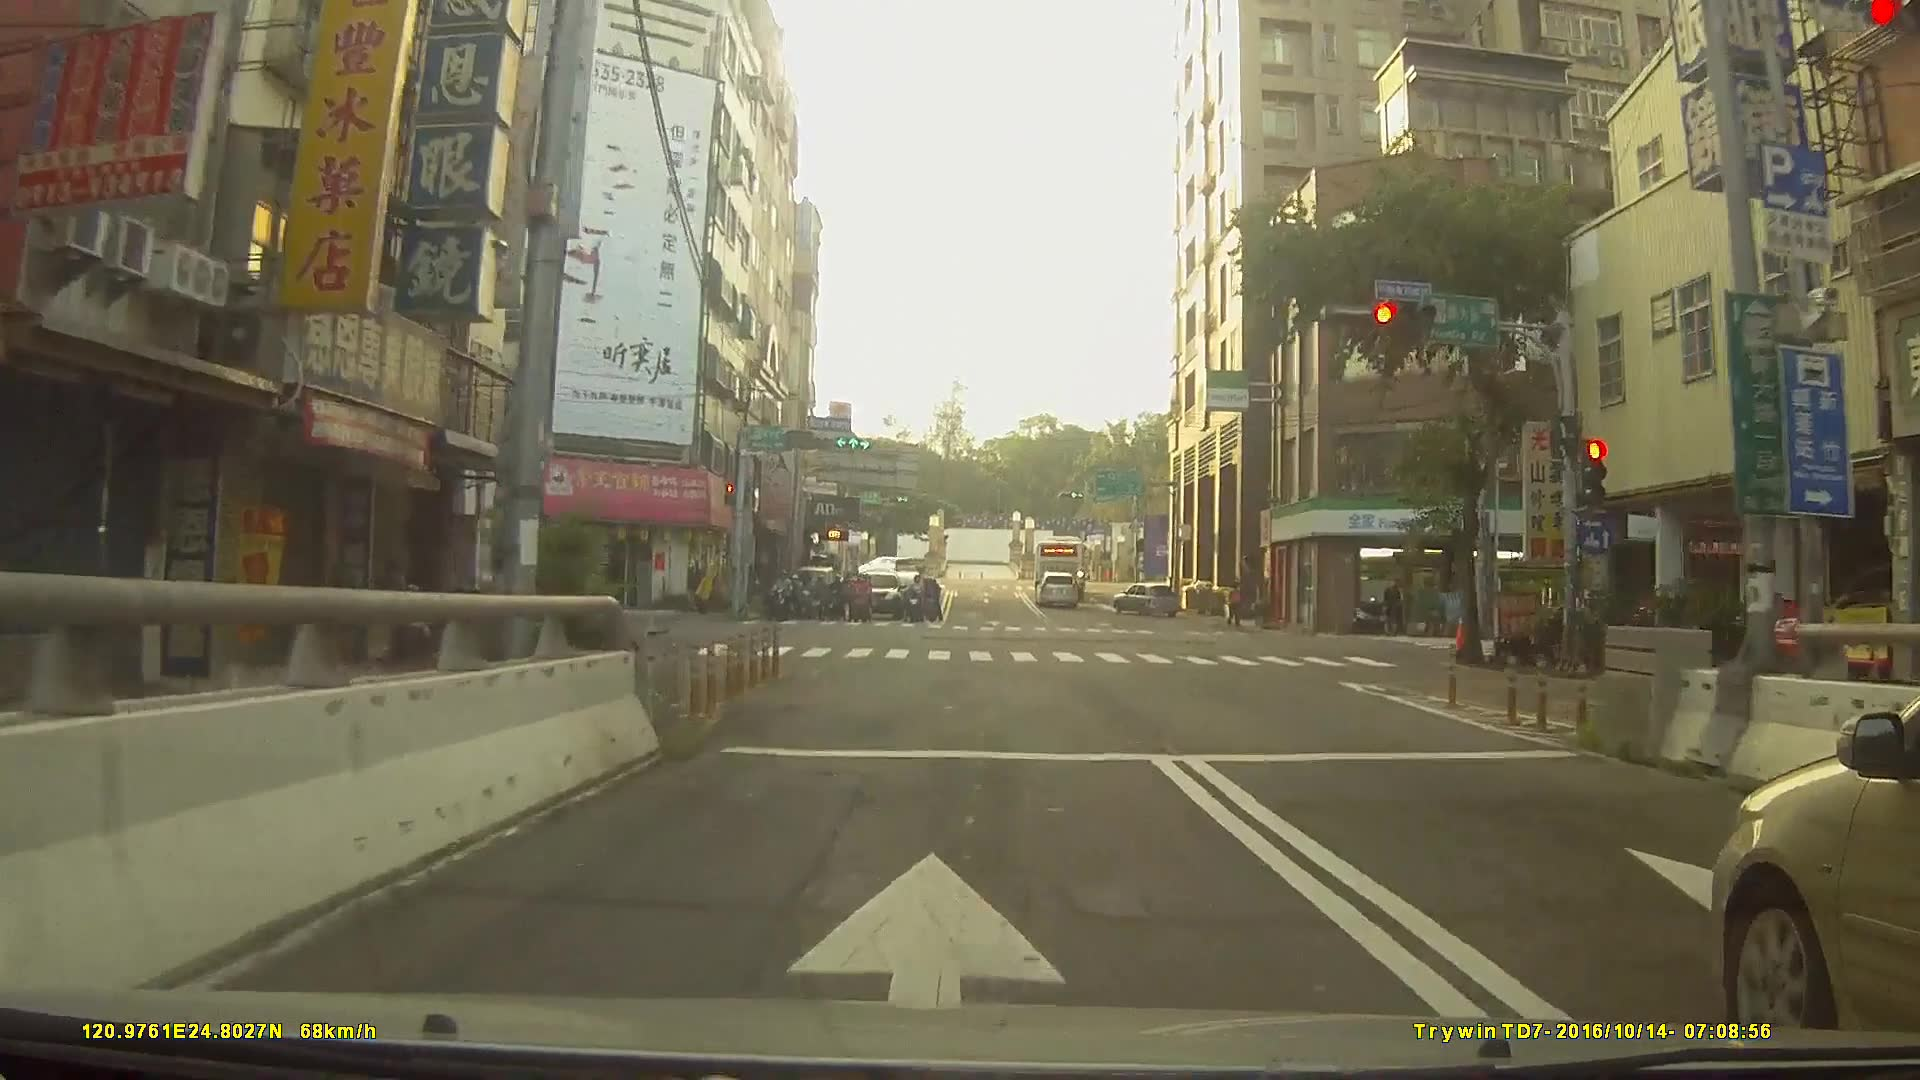pedestrian: (1381, 583, 1407, 639), (1225, 583, 1245, 628)
rider: (770, 569, 797, 623), (825, 577, 849, 627), (849, 573, 873, 621), (798, 576, 821, 621), (906, 578, 927, 628), (922, 583, 942, 630)
vehicle: (1712, 686, 1920, 1046), (1031, 538, 1090, 589), (850, 575, 905, 628), (1111, 580, 1181, 616), (858, 552, 922, 582), (1035, 573, 1082, 607)
